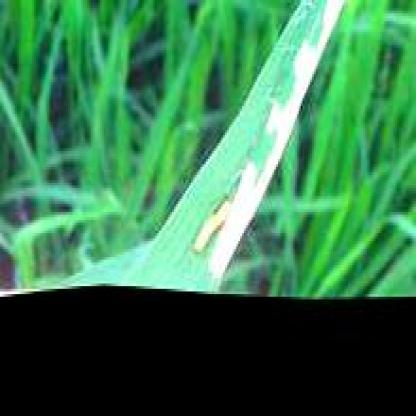leaf-folder: (187, 175, 239, 256)
